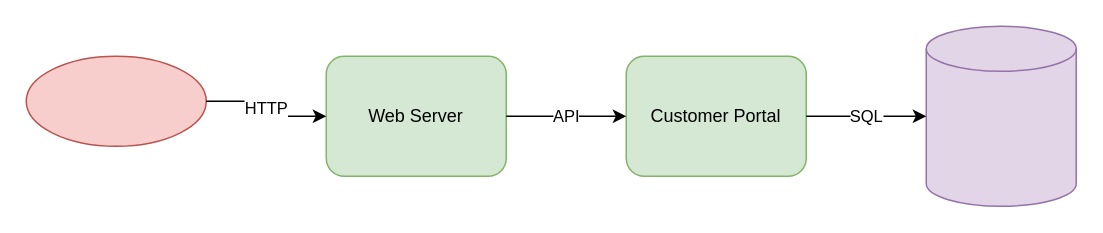
The diagram is 1103 pixels wide and 233 high, and some of its shapes have lost their labels. Here are the shapes that lost their labels. From the top down, the centre of each, then its label:
At point (115, 100): "Load Balancer".
At point (1000, 115): "Database".
